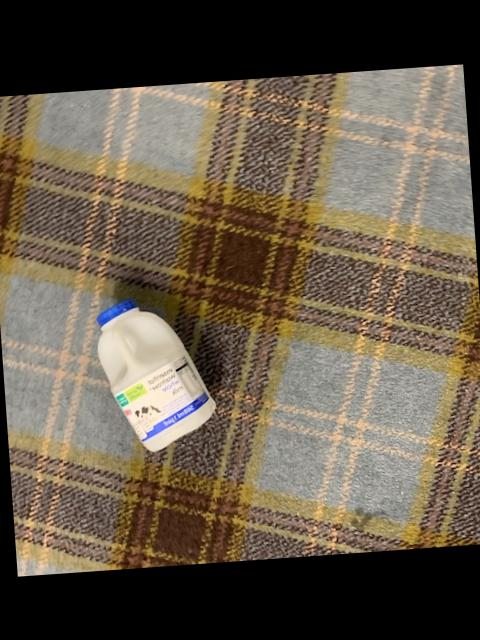plastic: (95, 300, 212, 449)
